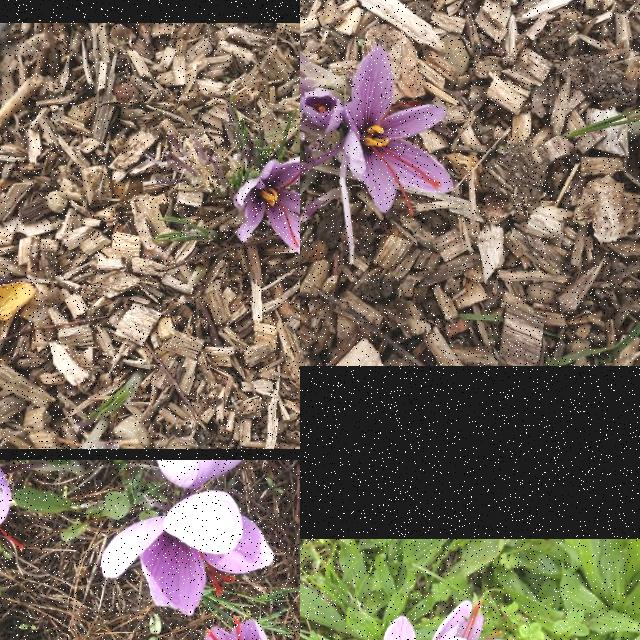flower: (100, 491, 276, 617), (344, 44, 456, 216), (232, 155, 300, 259), (424, 600, 511, 640), (154, 460, 255, 491), (178, 617, 281, 640), (300, 86, 343, 133)
